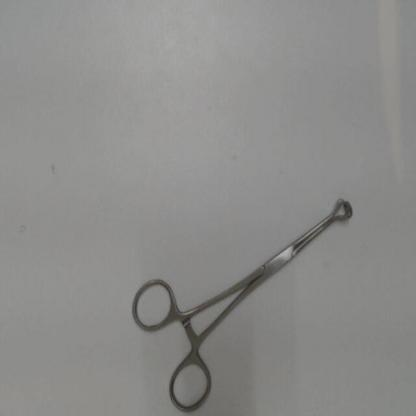Babcock Tissue Forceps: (128, 191, 357, 413)
